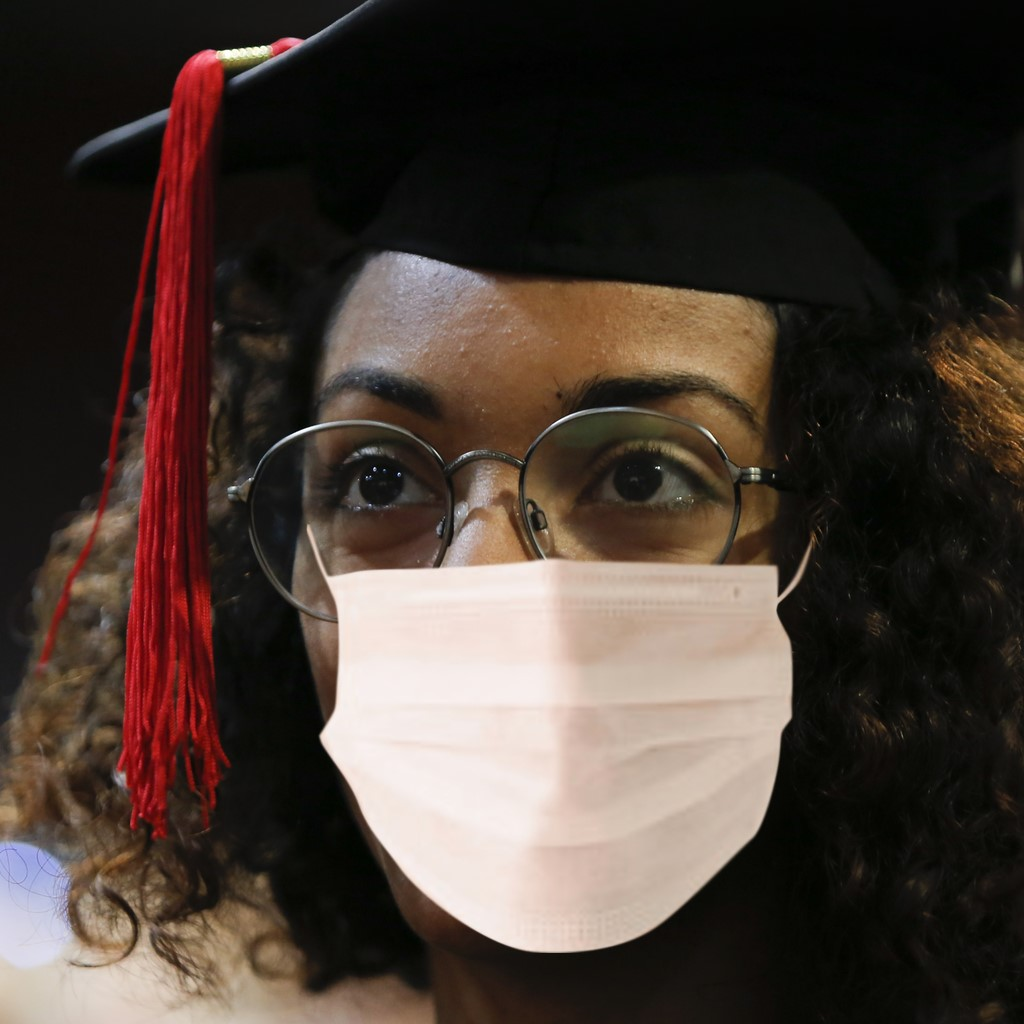con_mascara: (256, 187, 838, 937)
